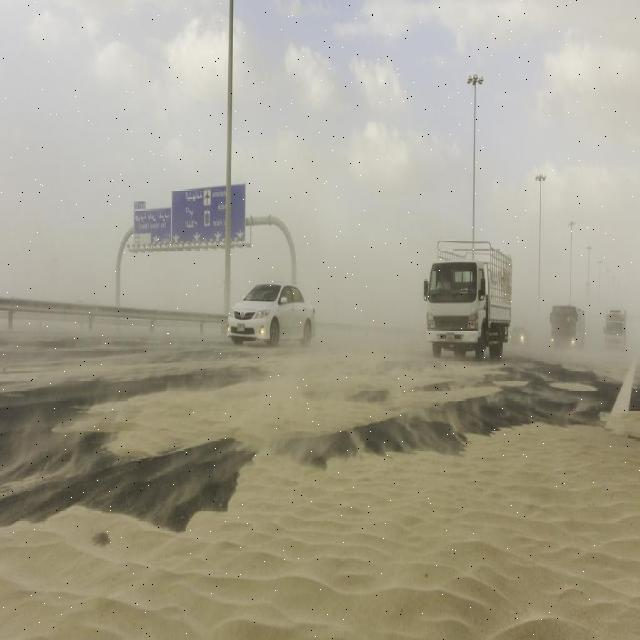bus: (424, 242, 514, 358), (604, 308, 628, 349)
car: (228, 280, 316, 346), (508, 325, 530, 349)
truck: (550, 302, 586, 348)
